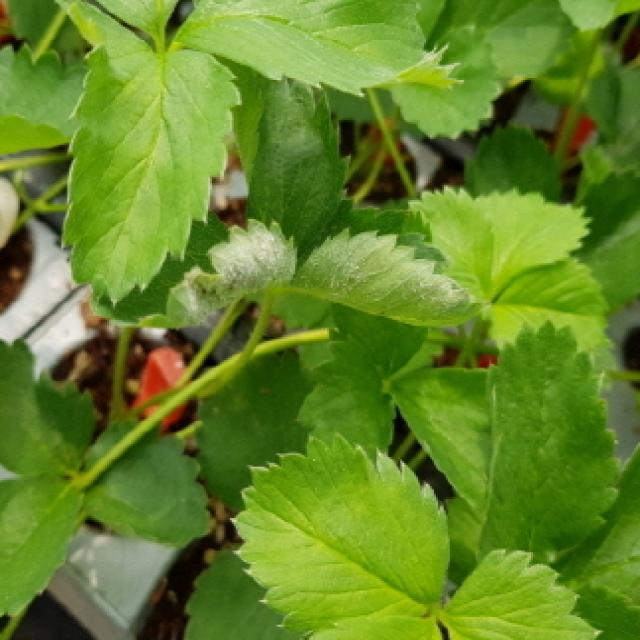Powdery Mildew Leaf: (282, 226, 485, 329), (139, 217, 298, 332)
